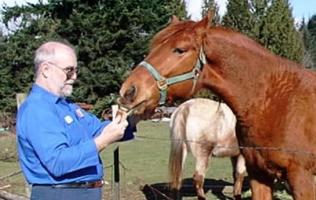person: (17, 40, 154, 200)
